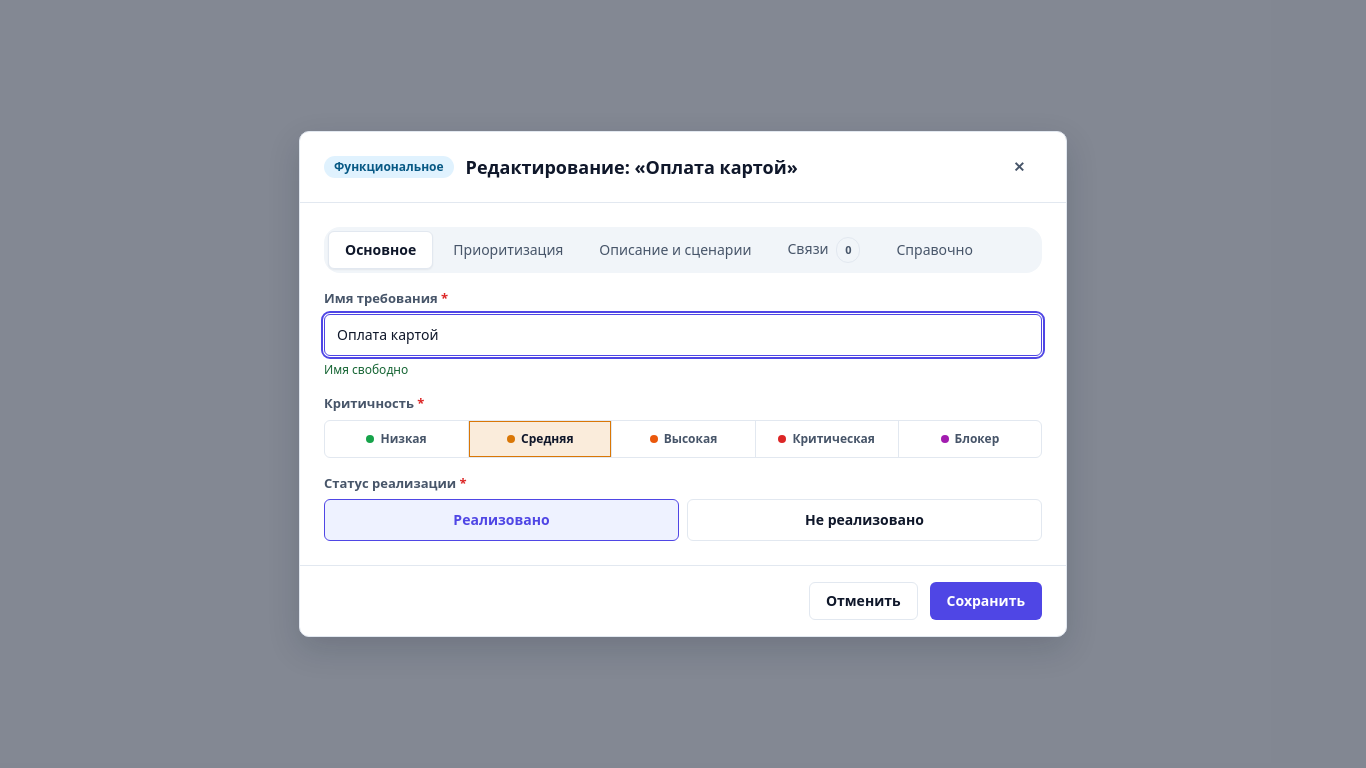
RequirementModal — link sections & error branches (Task 12 · F-1) › update failure in edit mode: error shown, modal stays open, edits are not lost
Type " v2" into the field with test id "req-name".
click(683, 335); type(" v2")  # box [324,314,1042,356]
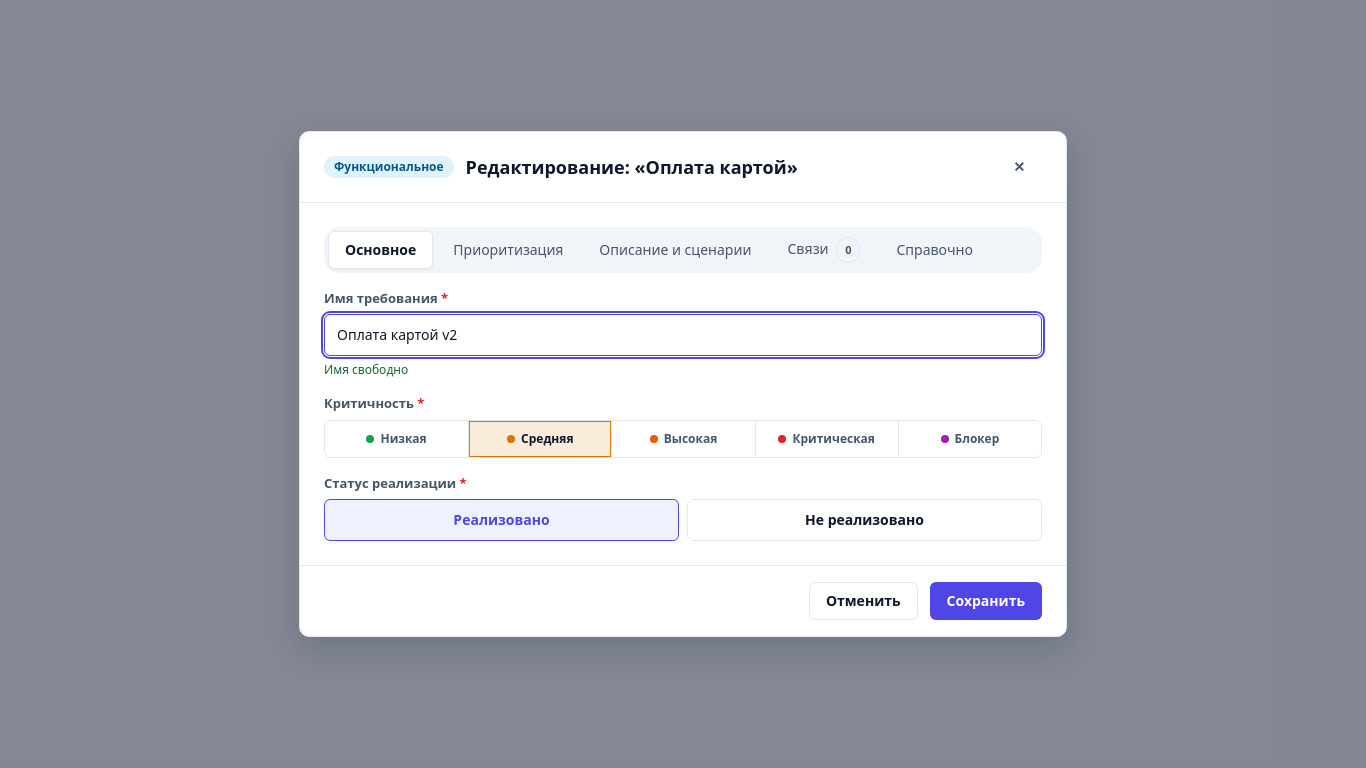
# T4 (уровень 0): сохранение без confirm — запрос уходит сразу.
Click the button with test id "req-submit".
click(986, 601)  # box [930,582,1042,620]
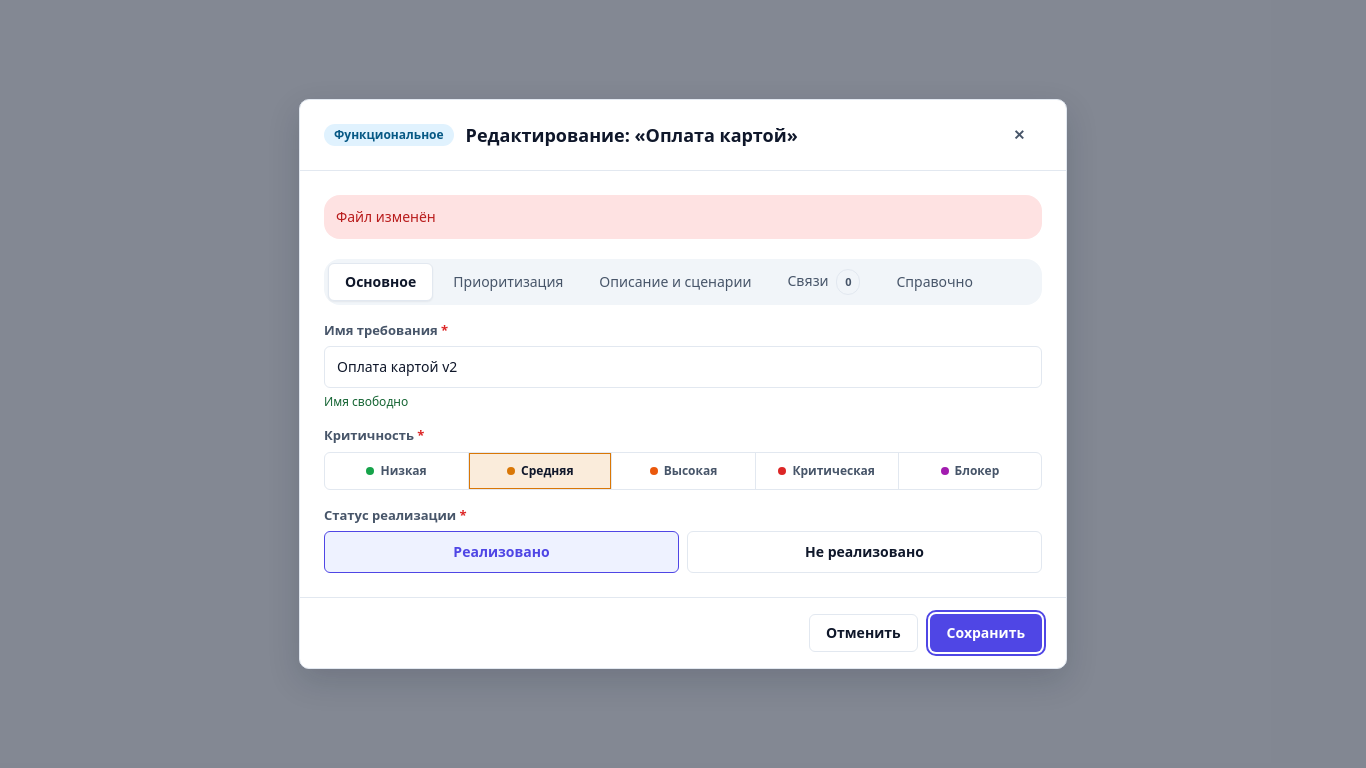
Check: the field with test id "req-name" holds "Оплата картой v2", box [324,346,1042,388]
Check: the message with test id "req-error" reads "Файл изменён", box [336,207,436,226]
